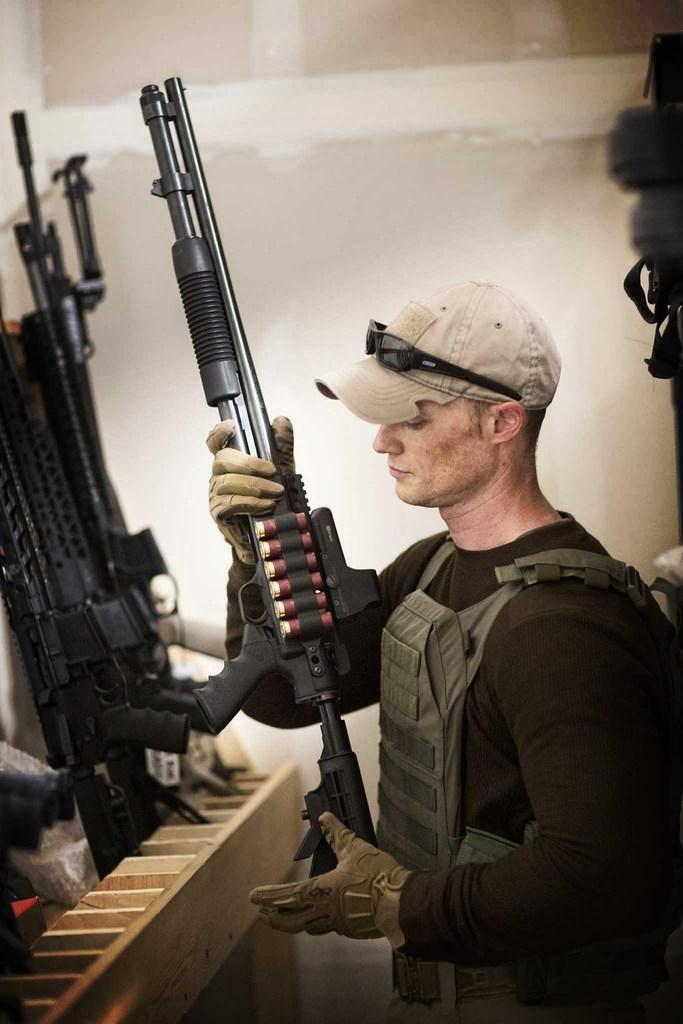Shotgun: (134, 72, 399, 879), (0, 109, 239, 877)
